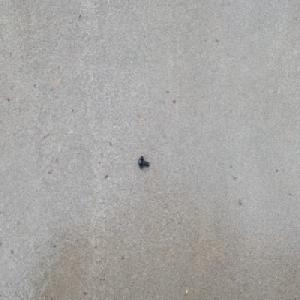BoltWasher: (137, 155, 149, 169)
